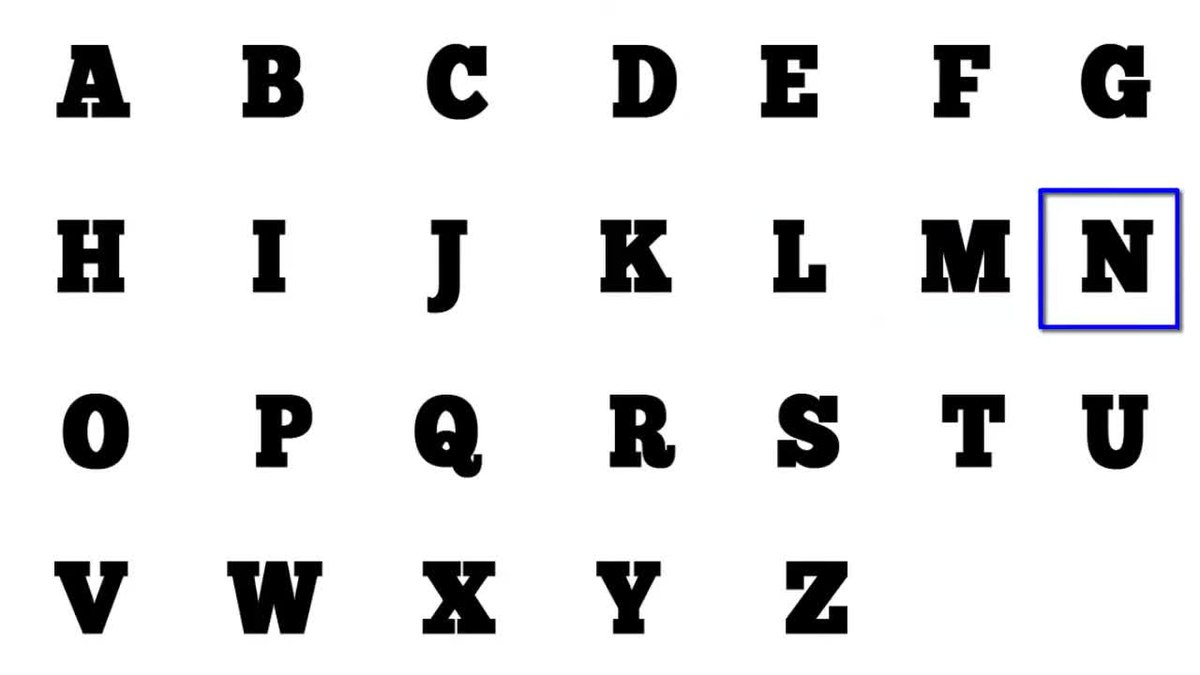character: (746, 376, 878, 511), (373, 199, 492, 337), (208, 25, 347, 142), (764, 532, 886, 665), (902, 197, 1021, 330), (395, 380, 527, 497), (579, 382, 706, 502), (739, 26, 875, 137), (922, 372, 1037, 503), (210, 364, 328, 491), (397, 536, 527, 647), (583, 204, 688, 341), (404, 27, 523, 145), (218, 534, 336, 651), (32, 544, 160, 651), (1062, 376, 1168, 501), (39, 26, 157, 137), (31, 202, 150, 310), (585, 538, 692, 658), (35, 375, 158, 477), (599, 28, 699, 147), (750, 197, 838, 329), (223, 199, 313, 328), (914, 22, 1004, 143), (1082, 25, 1172, 140), (1071, 208, 1165, 313)
